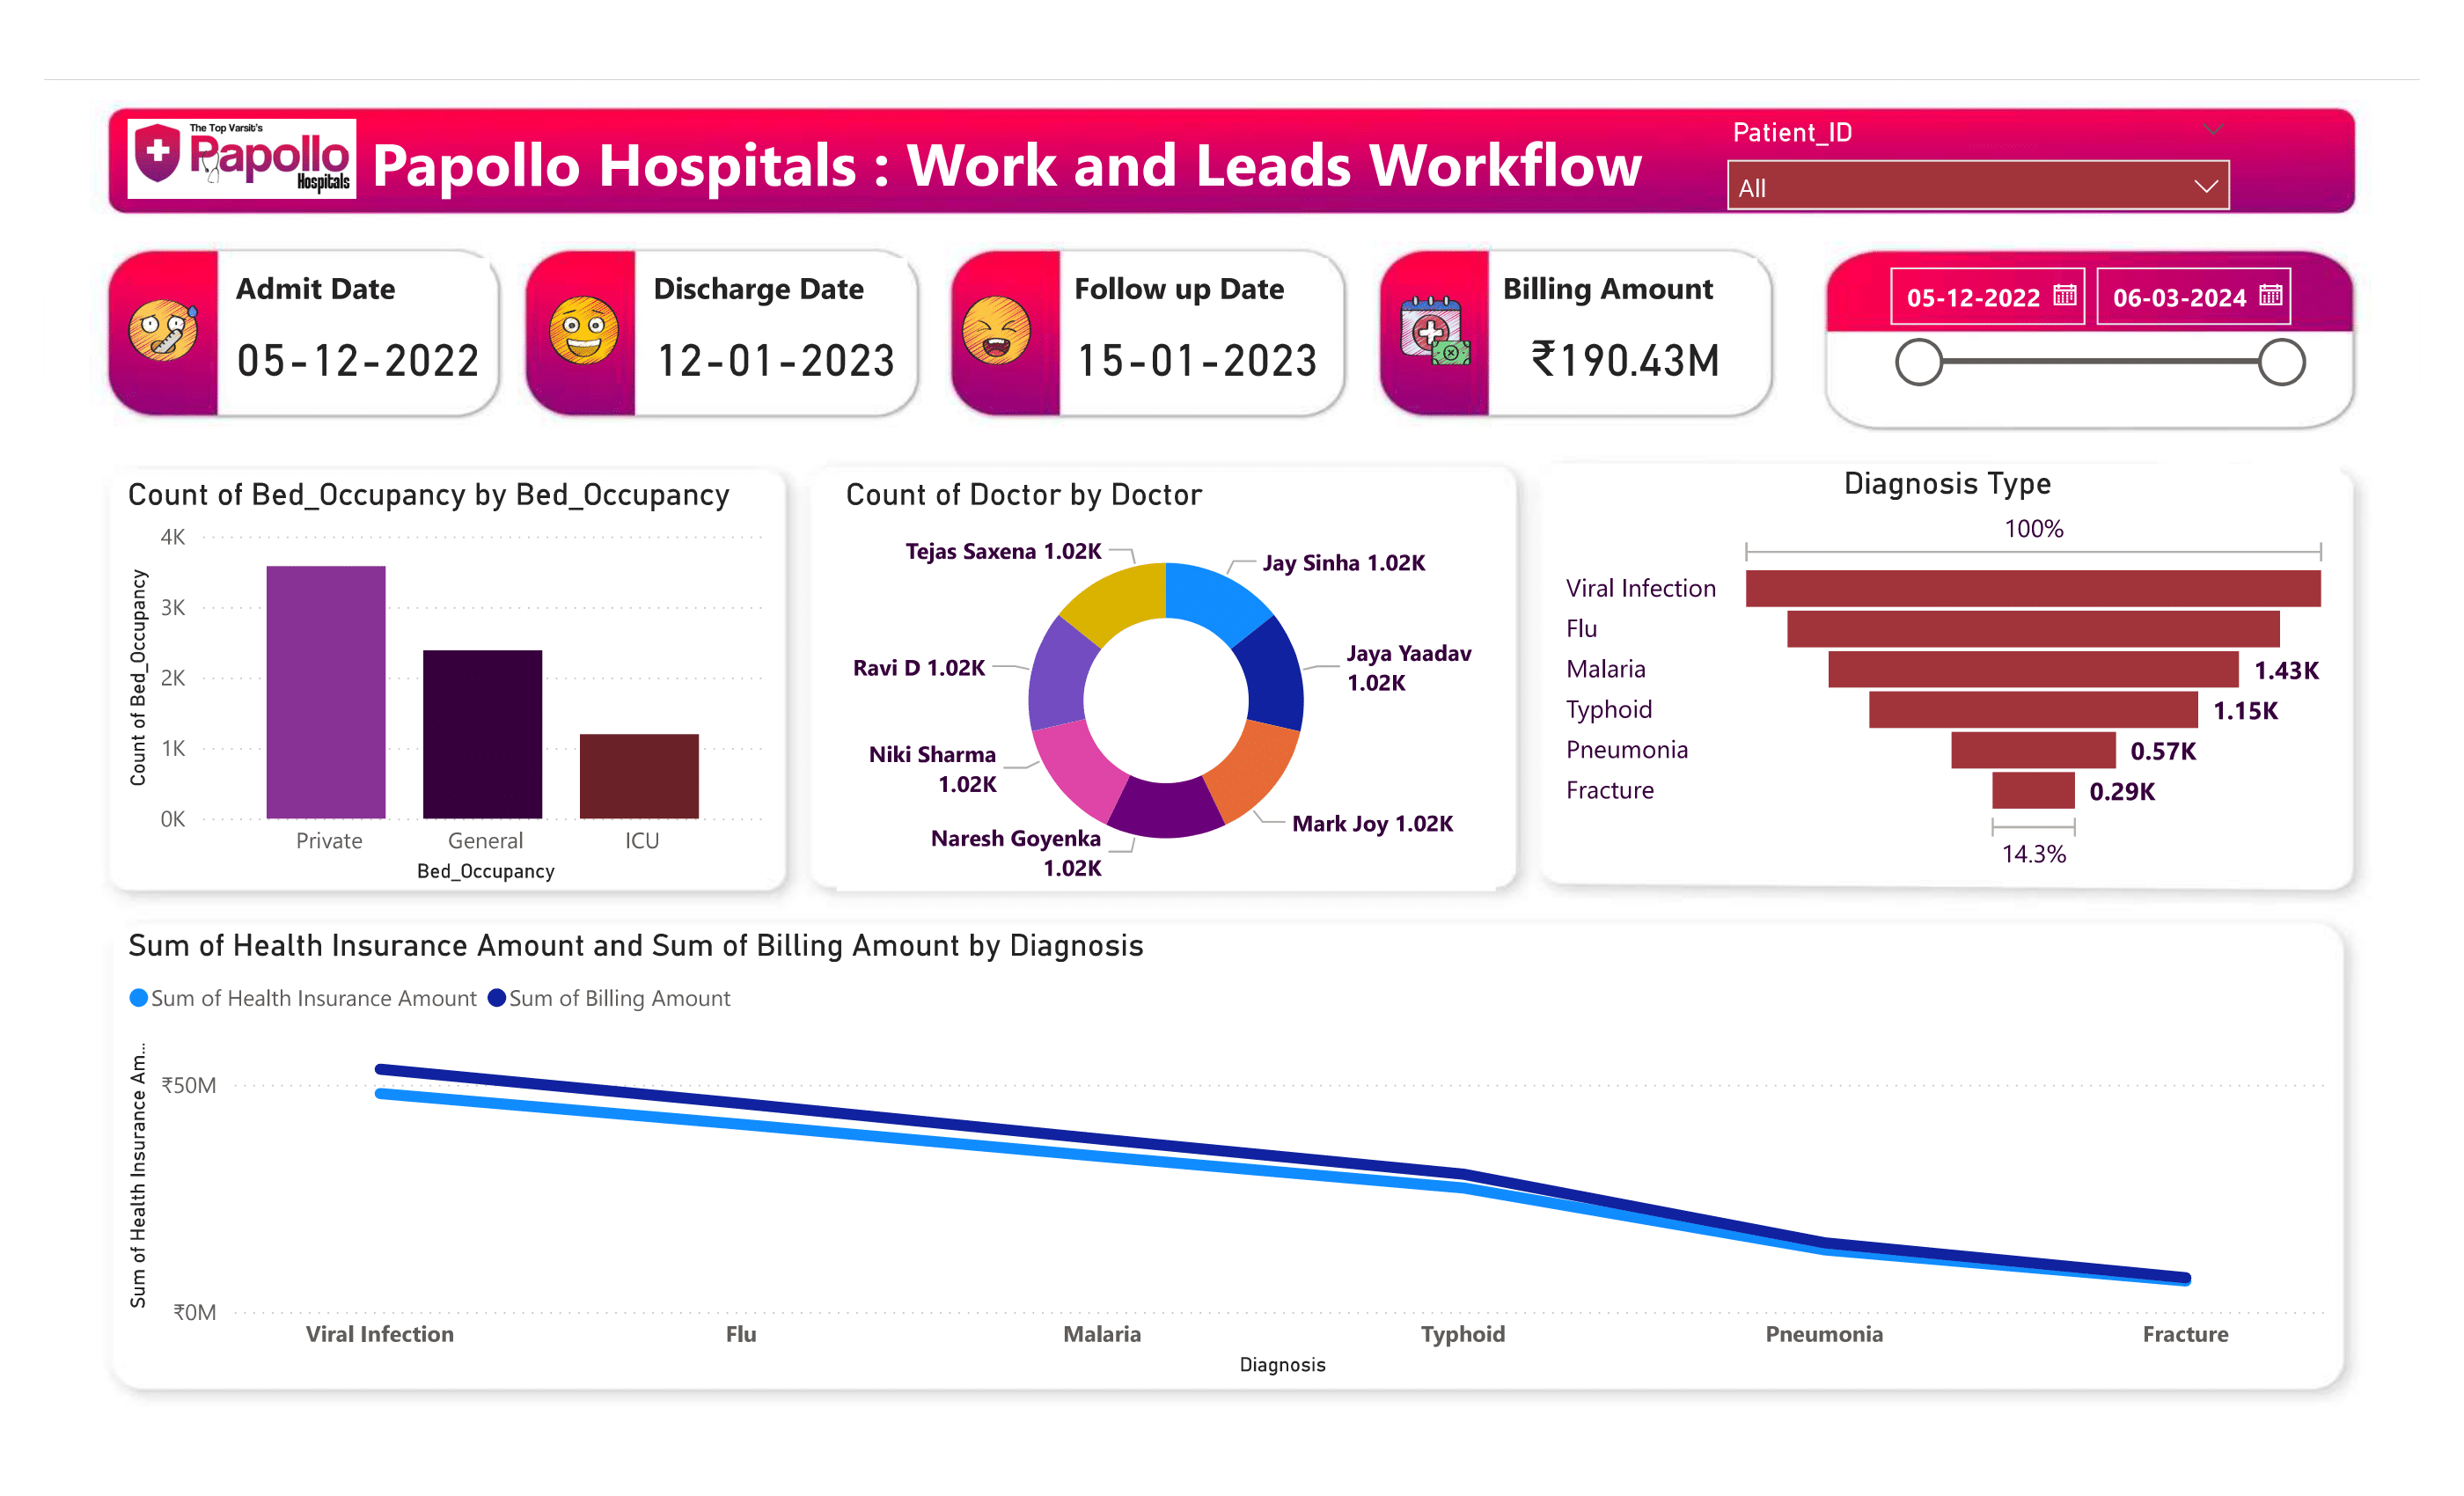

The dashboard page shown, as its layout file describes it:
{"tool":"powerbi","page":{"name":"Page 1","canvas":[1280,720],"ordinal":0},"visuals":[{"type":"textbox","box":[171.3,16.8,725.7,57.1],"z":0},{"type":"slicer","fields":{"Values":["Sheet1.Patient_ID"]},"box":[897,15.1,290.6,57.1],"z":1000},{"type":"card","fields":{"Values":["Sheet1.Admit_Date"]},"box":[97.8,129,141.7,42.5],"z":2000},{"type":"card","fields":{"Values":["Sheet1.Discharge_Date"]},"box":[323.1,129,141.7,42.5],"z":3000},{"type":"textbox","box":[97.8,96.4,141.7,42.5],"z":4000},{"type":"textbox","box":[323.1,96.4,141.7,42.5],"z":5000},{"type":"textbox","box":[549.9,96.4,141.7,42.5],"z":6000},{"type":"card","fields":{"Values":["Sheet1.Followup Date"]},"box":[549.9,129,141.7,42.5],"z":7000},{"type":"textbox","box":[780.9,96.4,141.7,42.5],"z":8000},{"type":"card","fields":{"Values":["Sheet1.Billing Amount"]},"box":[780.9,129,141.7,42.5],"z":9000},{"type":"slicer","fields":{"Values":["Sheet1.Admit_Date"]},"box":[982.2,90.7,245.2,79.4],"z":10000},{"type":"columnChart","fields":{"Category":["Sheet1.Bed_Occupancy"],"Y":["Sheet1.Bed_Occupancy"]},"box":[39.7,212.6,355.7,223.9],"z":11000},{"type":"donutChart","fields":{"Category":["Sheet1.Doctor"],"Y":["Sheet1.Doctor"]},"box":[426.6,212.6,355.7,223.9],"z":12000},{"type":"funnel","title":"Diagnosis Type","fields":{"Y":["Sheet1.Diagnosis"],"Category":["Sheet1.Diagnosis"]},"box":[815,206.9,422.4,223.9],"z":13000},{"type":"lineChart","fields":{"Y":["Sheet1.Health Insurance Amount","Sheet1.Billing Amount"],"Category":["Sheet1.Diagnosis"]},"box":[39.7,456.4,1197.6,246.6],"z":14000},{"type":"image","box":[18.4,15.6,175.7,53.9],"z":15000},{"type":"image","box":[32.6,110.6,60.9,48.2],"z":16000},{"type":"image","box":[260.8,110.6,59.5,48.2],"z":17000},{"type":"image","box":[483.3,110.6,60,48.2],"z":18000},{"type":"image","box":[717.2,110.6,65.2,48.2],"z":19000}]}

Visuals, with their boxes on the page's 1280x720 design canvas (x1, y1, x2, y2). These are canvas units, not pixel positions in the 2464x1496 screenshot, which may show the page scaled, cropped or inside an application window:
textbox: x1=171 y1=17 x2=897 y2=74
slicer - Sheet1.Patient_ID: x1=897 y1=15 x2=1188 y2=72
card - Sheet1.Admit_Date: x1=98 y1=129 x2=240 y2=172
card - Sheet1.Discharge_Date: x1=323 y1=129 x2=465 y2=172
textbox: x1=98 y1=96 x2=240 y2=139
textbox: x1=323 y1=96 x2=465 y2=139
textbox: x1=550 y1=96 x2=692 y2=139
card - Sheet1.Followup Date: x1=550 y1=129 x2=692 y2=172
textbox: x1=781 y1=96 x2=923 y2=139
card - Sheet1.Billing Amount: x1=781 y1=129 x2=923 y2=172
slicer - Sheet1.Admit_Date: x1=982 y1=91 x2=1227 y2=170
columnChart - Sheet1.Bed_Occupancy x Sheet1.Bed_Occupancy: x1=40 y1=213 x2=395 y2=436
donutChart - Sheet1.Doctor x Sheet1.Doctor: x1=427 y1=213 x2=782 y2=436
"Diagnosis Type" funnel: x1=815 y1=207 x2=1237 y2=431
lineChart - Sheet1.Health Insurance Amount x Sheet1.Billing Amount: x1=40 y1=456 x2=1237 y2=703
image: x1=18 y1=16 x2=194 y2=70
image: x1=33 y1=111 x2=94 y2=159
image: x1=261 y1=111 x2=320 y2=159
image: x1=483 y1=111 x2=543 y2=159
image: x1=717 y1=111 x2=782 y2=159
